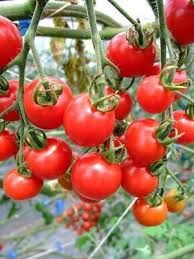tomato: (62, 94, 118, 149), (22, 76, 75, 131), (104, 30, 158, 79), (70, 153, 121, 200), (27, 138, 75, 183), (123, 120, 170, 162), (134, 76, 179, 113), (4, 167, 46, 202), (133, 193, 172, 230), (162, 2, 194, 47), (118, 160, 158, 196), (104, 87, 135, 122), (1, 81, 27, 122), (167, 112, 193, 146), (1, 129, 20, 163)
